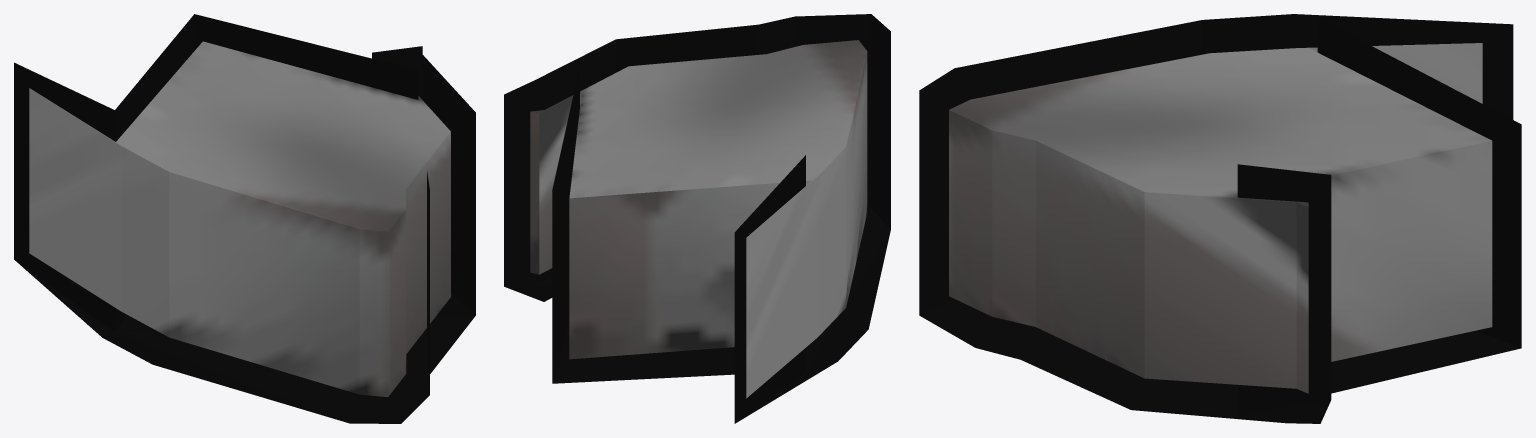
The model's file is Building_ScrapCubeSculpture_Things_Building_CubeSculptures_CubeSculpture_Scrap_CubeSculpture_ScrapA.glb.
3 views of the same model, side by side, from view 1: azimuth 30°, elevation 25°; view 2: azimuth 150°, elevation 25°; view 3: azimuth 270°, elevation 25° (orthographic). The views are drawn at different scales.
Visible parts, largest first — view 1: Body, Outline; view 2: Body, Outline; view 3: Body, Outline.
Boxes of the visible parts, box(x1,y1,x2,y2) form: Body: box(29, 41, 450, 396); Outline: box(14, 14, 475, 423); Body: box(530, 40, 867, 398); Outline: box(504, 14, 890, 423); Body: box(949, 43, 1492, 393); Outline: box(919, 14, 1521, 423).
Bounding box in the file's own units: 0.554 × 0.3564 × 0.7735.
Materials: 2 (1 with a texture image).
